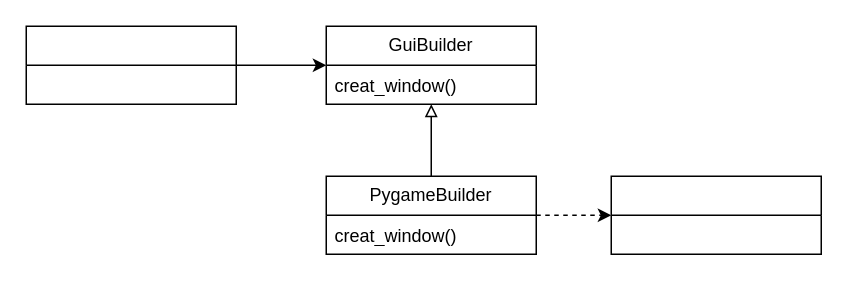
The diagram is 848 pixels wide and 285 high, and some of its shapes have lost their labels. The centre of each missing label's shape, as x and y in pixels:
MenuManager: point (130, 64)
Window: point (715, 214)
